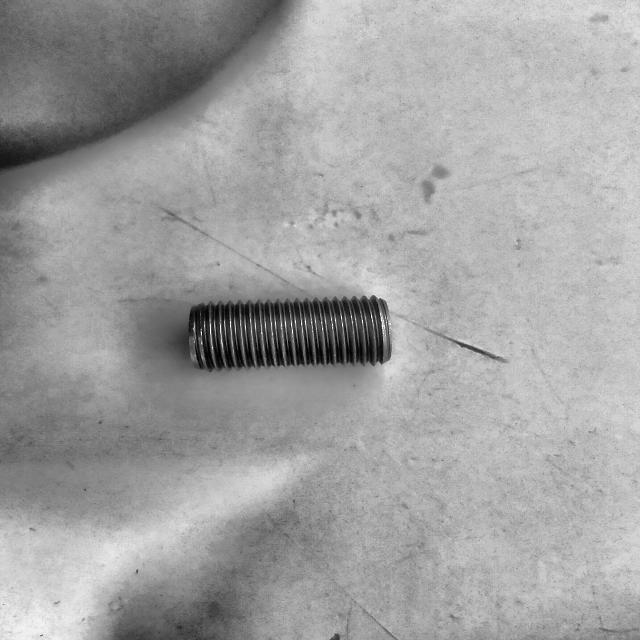Normal: (189, 295, 392, 373)
